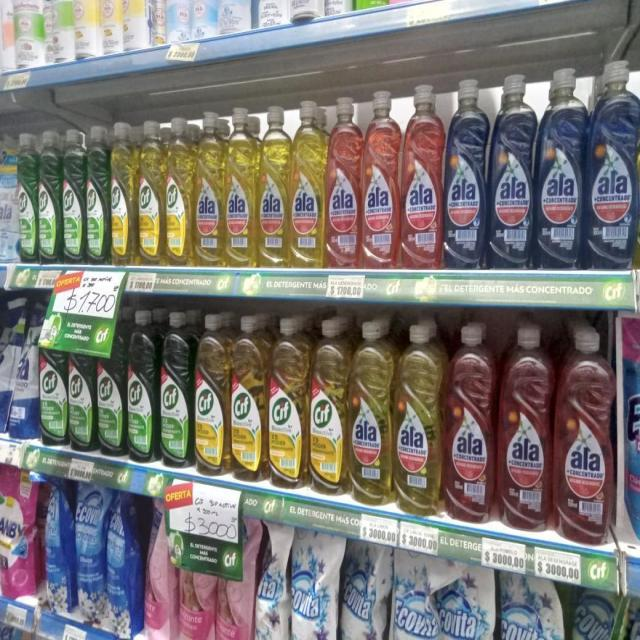ala_conc_amarillo: (394, 320, 443, 514), (349, 318, 392, 506), (290, 98, 325, 270), (258, 103, 290, 270), (226, 104, 256, 270), (194, 108, 224, 270)
ala_conc_azul: (586, 59, 637, 272), (536, 62, 584, 272), (489, 70, 534, 272), (444, 74, 487, 271)
ala_conc_rojo: (554, 326, 615, 546), (498, 324, 552, 534), (445, 321, 495, 525), (402, 82, 442, 272), (362, 88, 400, 272), (326, 93, 361, 271)
cif_conc_bot_amarilla: (309, 316, 347, 497), (268, 315, 307, 489), (231, 314, 266, 483), (195, 313, 229, 477), (165, 114, 193, 269), (110, 119, 137, 267), (138, 116, 164, 268)
cif_conc_botella_verde: (160, 310, 193, 468), (126, 307, 158, 463), (97, 305, 126, 457), (39, 294, 67, 447), (68, 303, 95, 452), (18, 131, 37, 264)
